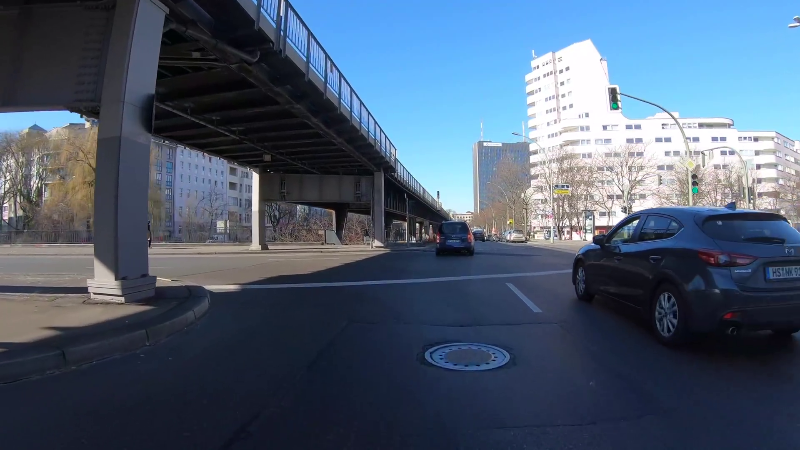Plate: (760, 266, 800, 283)
